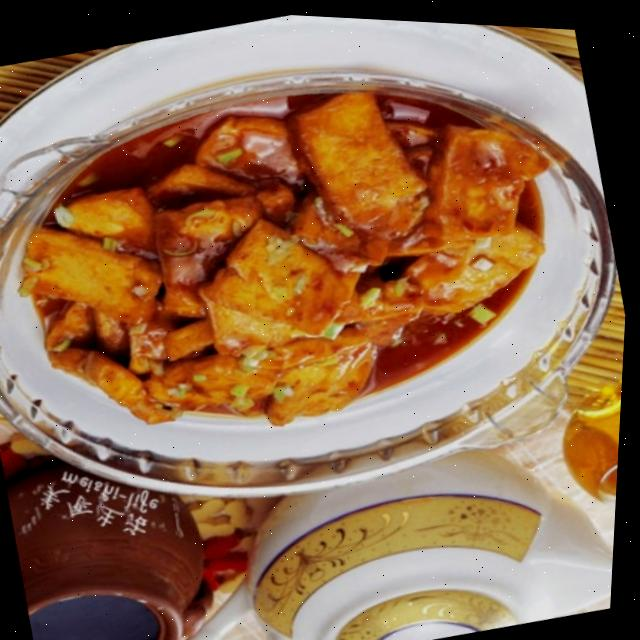豆腐料理: (0, 17, 606, 477)
